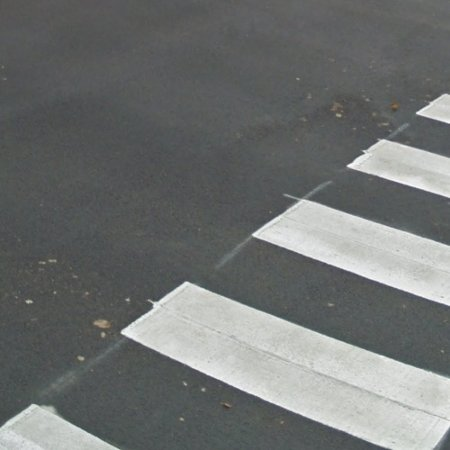行人穿越道: (1, 268, 450, 449), (230, 127, 450, 268), (373, 64, 450, 126)
